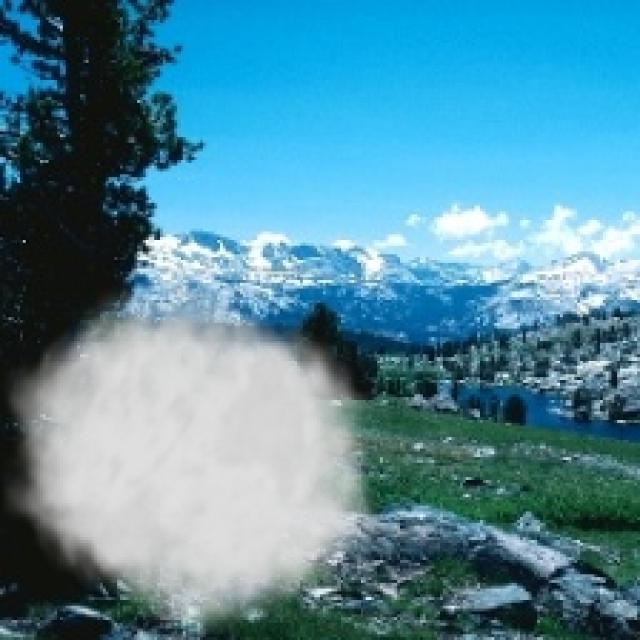smoke: (3, 269, 394, 637)
